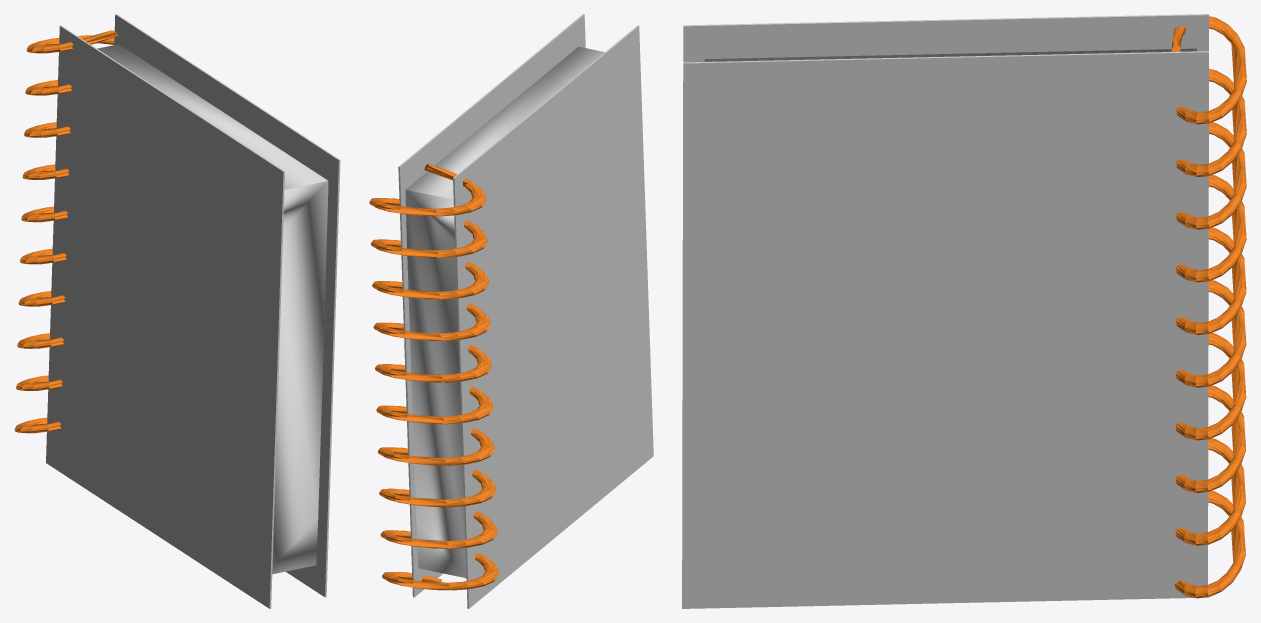
Rendered from notebook.glb.
3 views of the same model, side by side, from view 1: azimuth 30°, elevation 25°; view 2: azimuth 150°, elevation 25°; view 3: azimuth 270°, elevation 25° (orthographic). The views are drawn at different scales.
Visible parts, largest first — view 1: Wardrobe &workspace-notebook-diffuse; view 2: Wardrobe &workspace-notebook-diffuse; view 3: Wardrobe &workspace-notebook-diffuse.
Boxes of the visible parts, left/top/right/bottom form: Wardrobe &workspace-notebook-diffuse: left=14, top=14, right=340, bottom=608; Wardrobe &workspace-notebook-diffuse: left=369, top=14, right=653, bottom=608; Wardrobe &workspace-notebook-diffuse: left=682, top=14, right=1246, bottom=608.
Size of the model in its own units: 1.81 by 5.87 by 5.39.
